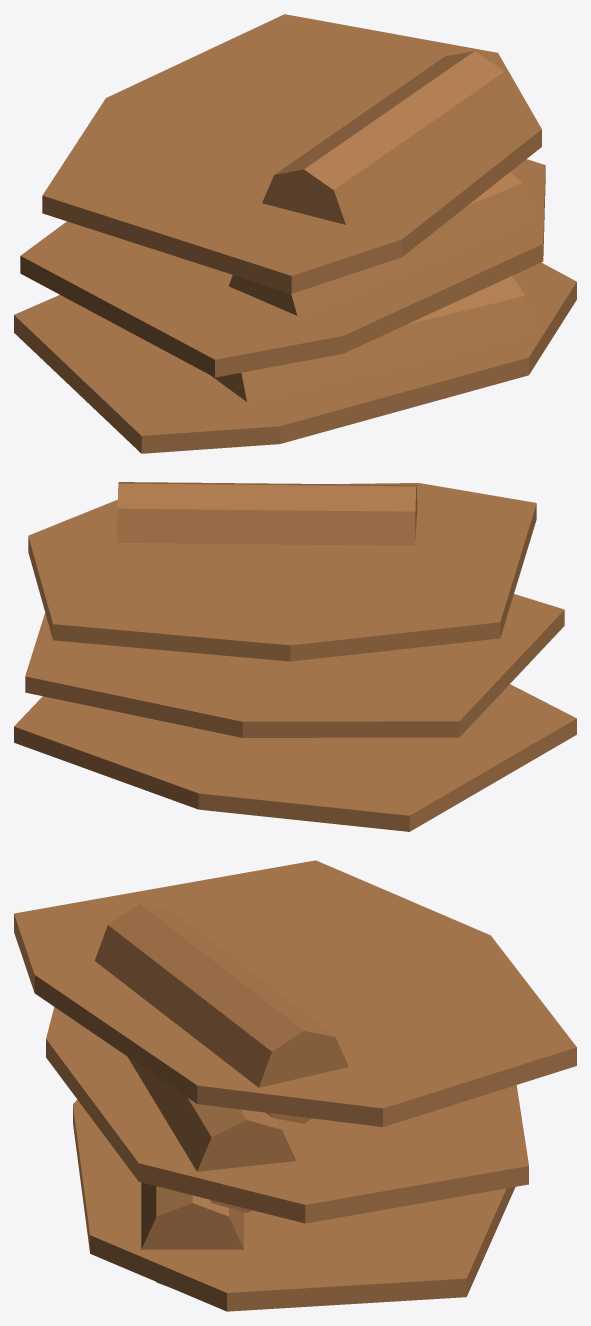
Rendered from Leather_Thin.fbx.
The picture shows the model from 3 angles, top to bottom: view 1: azimuth 30°, elevation 25°; view 2: azimuth 150°, elevation 25°; view 3: azimuth 270°, elevation 25°; orthographic projection. The views are drawn at different scales.
Visible parts, largest first — view 1: Leather_Thin__Stack, Leather_Thin; view 2: Leather_Thin__Stack, Leather_Thin; view 3: Leather_Thin__Stack, Leather_Thin.
Part boxes in pixels (bbox=[...]): Leather_Thin__Stack: bbox=[18, 14, 576, 443]; Leather_Thin: bbox=[14, 263, 575, 453]; Leather_Thin__Stack: bbox=[14, 482, 575, 814]; Leather_Thin: bbox=[29, 684, 576, 831]; Leather_Thin__Stack: bbox=[14, 860, 576, 1311]; Leather_Thin: bbox=[73, 1099, 506, 1290].
Size of the model in its own units: 0.1752 by 0.0888 by 0.1645.
